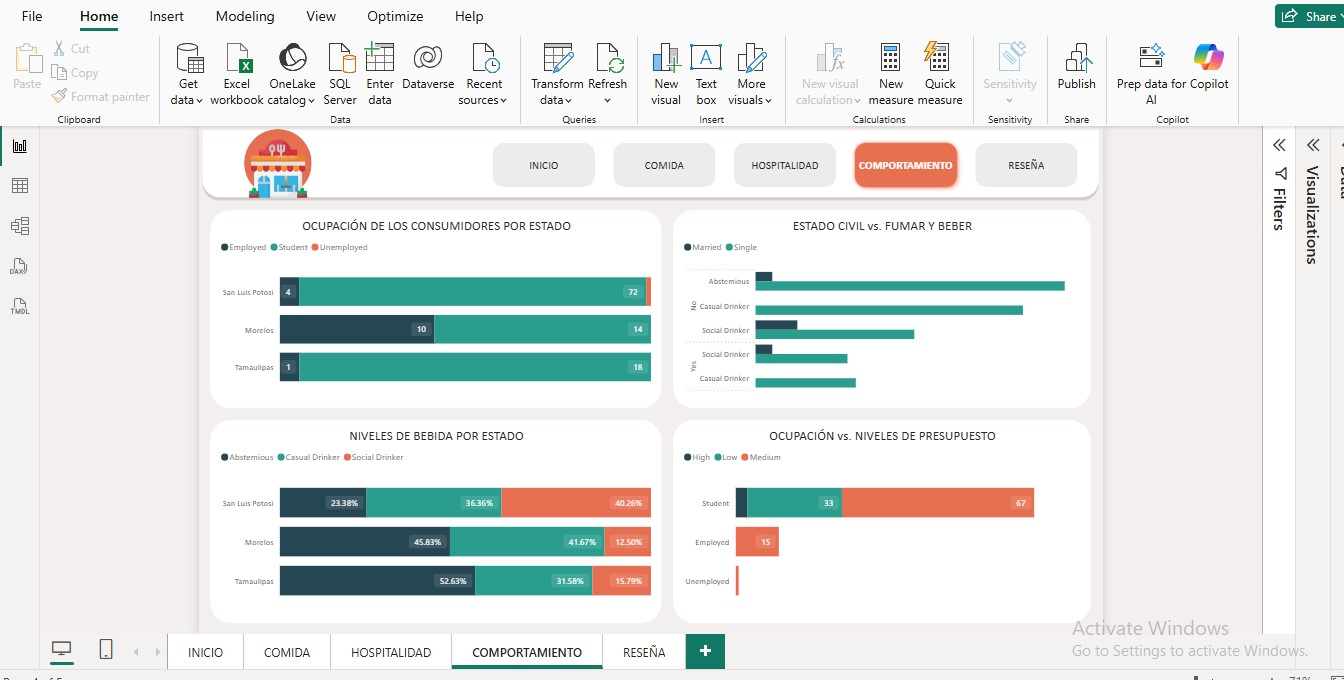

Layout of this report page (visuals, bound fields, positions):
{"tool":"powerbi","page":{"name":"COMPORTAMIENTO","canvas":[1280,720],"ordinal":3},"visuals":[{"type":"hundredPercentStackedBarChart","title":"OCUPACIÓN DE LOS CONSUMIDORES POR ESTADO","fields":{"Y":["CountNonNull(consumers.Consumer_ID)"],"Category":["consumers.State"],"Series":["consumers.Occupation"]},"box":[15.9,118.7,640.1,281.3],"z":0},{"type":"clusteredBarChart","title":"ESTADO CIVIL vs. FUMAR Y BEBER","fields":{"Category":["consumers.Smoker","consumers.Drink_Level"],"Y":["CountNonNull(consumers.Consumer_ID)"],"Series":["consumers.Marital_Status"]},"box":[672,118.7,591.8,281.3],"z":1000},{"type":"hundredPercentStackedBarChart","title":"NIVELES DE BEBIDA POR ESTADO","fields":{"Y":["CountNonNull(consumers.Consumer_ID)"],"Series":["consumers.Drink_Level"],"Category":["consumers.State"]},"box":[16,416,640,288],"z":2000},{"type":"barChart","title":"OCUPACIÓN vs. NIVELES DE PRESUPUESTO","fields":{"Category":["consumers.Occupation"],"Y":["CountNonNull(consumers.Consumer_ID)"],"Series":["consumers.Budget"]},"box":[672,416,592,288],"z":3000},{"type":"shape","box":[0,0,1280.5,105.9],"z":4000},{"type":"pageNavigator","box":[408.2,15.6,846.1,79.4],"z":5000},{"type":"shape","box":[63.7,4.4,96.2,96.7],"z":6000},{"type":"image","box":[56,9.3,111.5,101.1],"z":7000}]}

Visuals, with their boxes on the page's 1280x720 design canvas (x1, y1, x2, y2). These are canvas units, not pixel positions in the 1344x680 screenshot, which may show the page scaled, cropped or inside an application window:
"OCUPACIÓN DE LOS CONSUMIDORES POR ESTADO" hundredPercentStackedBarChart: bbox(16, 119, 656, 400)
"ESTADO CIVIL vs. FUMAR Y BEBER" clusteredBarChart: bbox(672, 119, 1264, 400)
"NIVELES DE BEBIDA POR ESTADO" hundredPercentStackedBarChart: bbox(16, 416, 656, 704)
"OCUPACIÓN vs. NIVELES DE PRESUPUESTO" barChart: bbox(672, 416, 1264, 704)
shape: bbox(0, 0, 1280, 106)
pageNavigator: bbox(408, 16, 1254, 95)
shape: bbox(64, 4, 160, 101)
image: bbox(56, 9, 168, 110)
